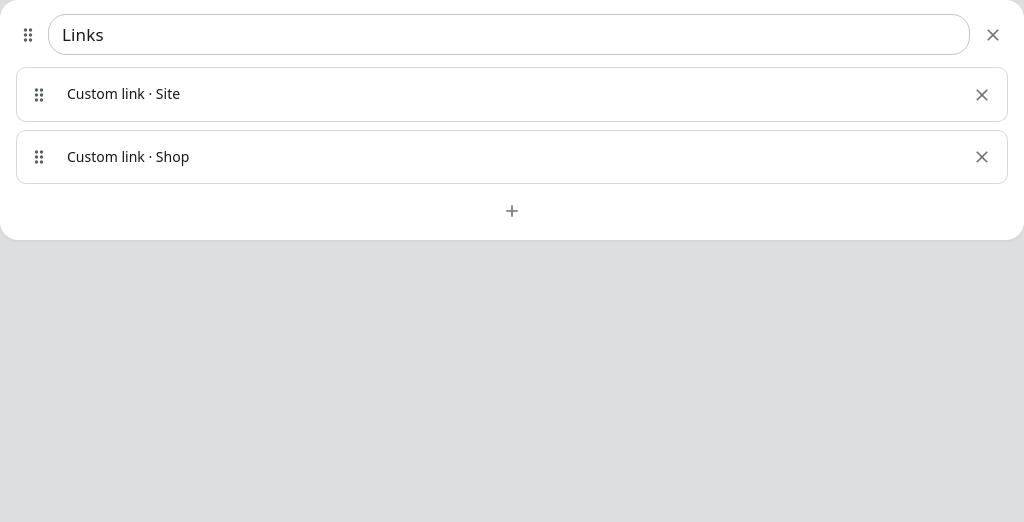
Test: SectionEditor (extracted editor component) › hides release-only widget types on the main page
Step 1. Click the button named "Add" → (512, 211), box [497,196,527,226]
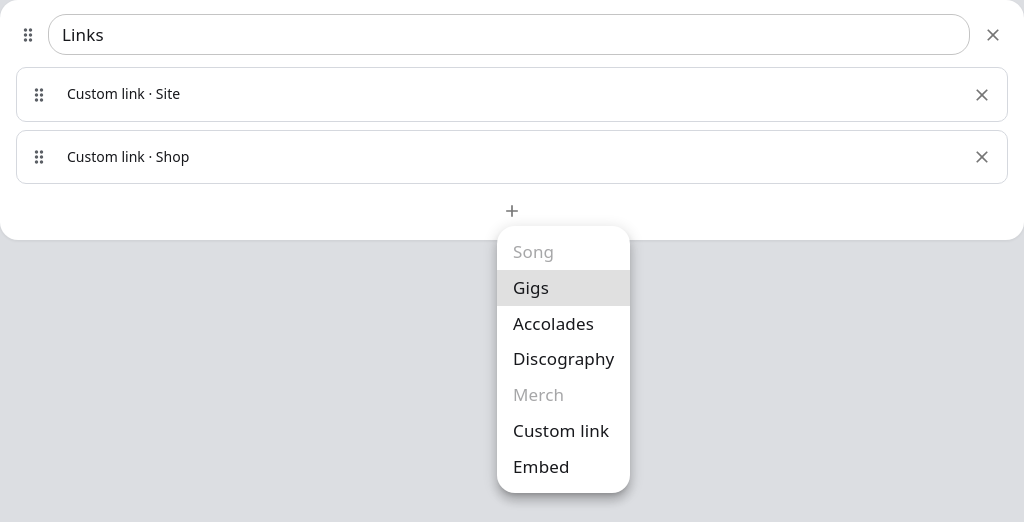
Result: the menu item "Custom link" is shown at [513,419,609,442]
